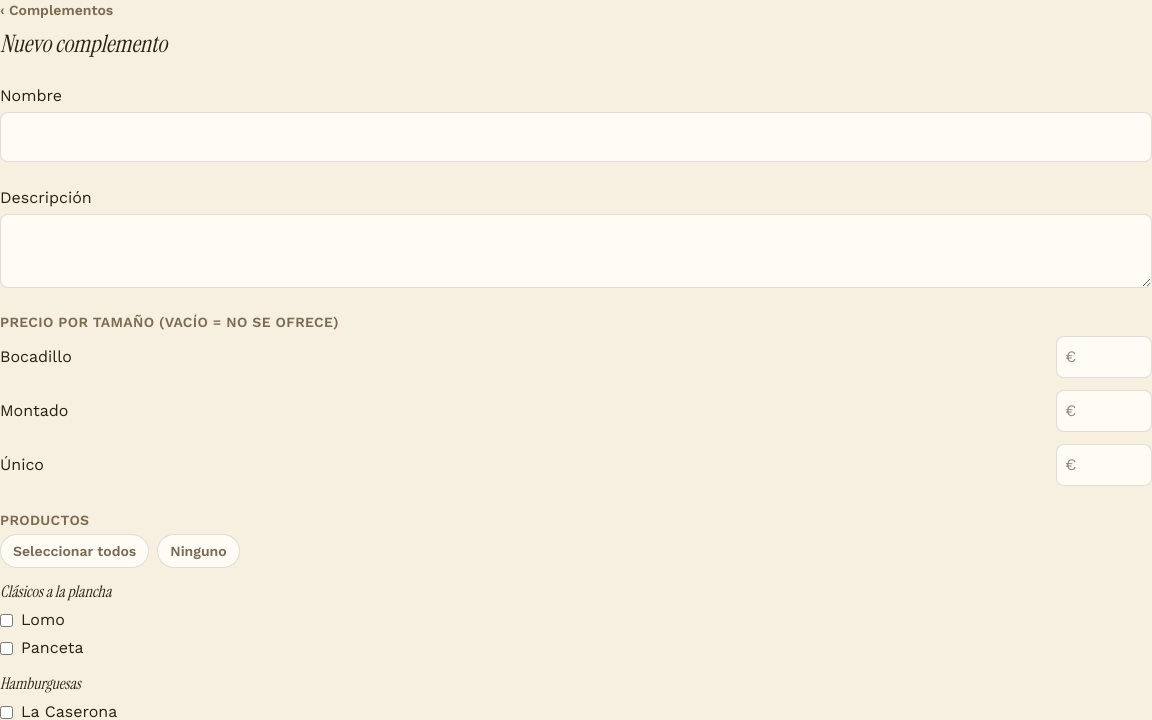
FormularioComplemento › no deja guardar sin precio en ningún tamaño
Type "Queso" into the field labelled "Nombre" at (576, 137), box [0,112,1151,162]
(page scrolled)
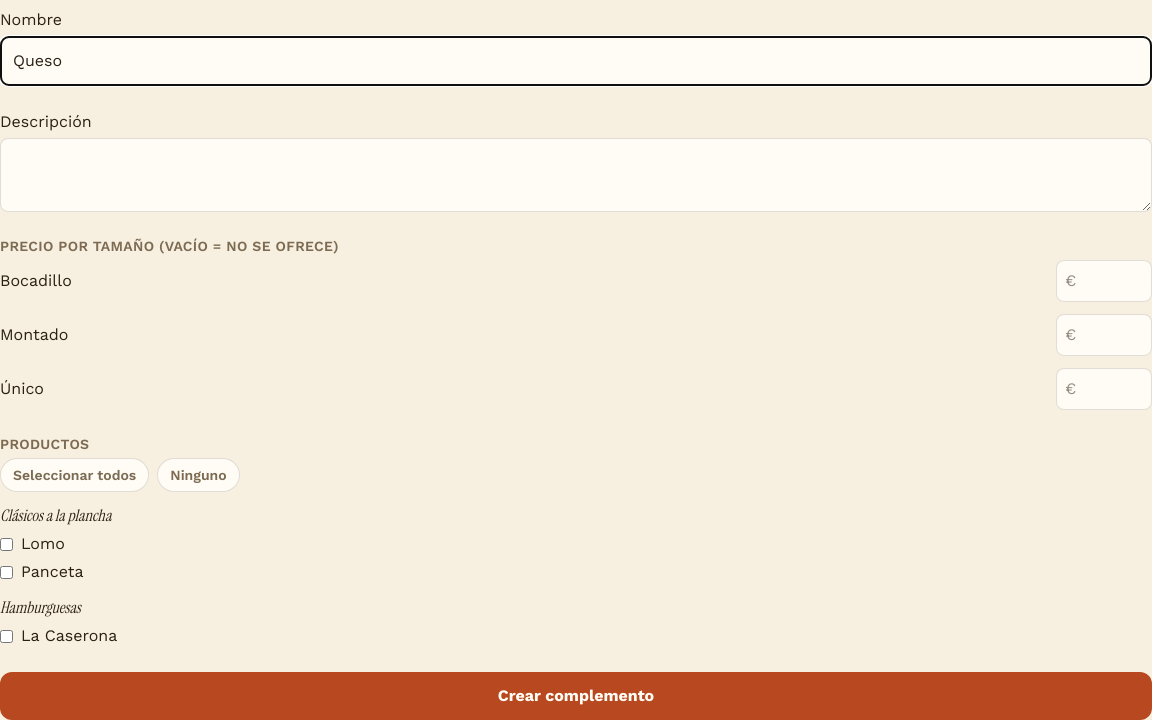
Click the button "Crear complemento" at (576, 696), box [0,672,1151,719]
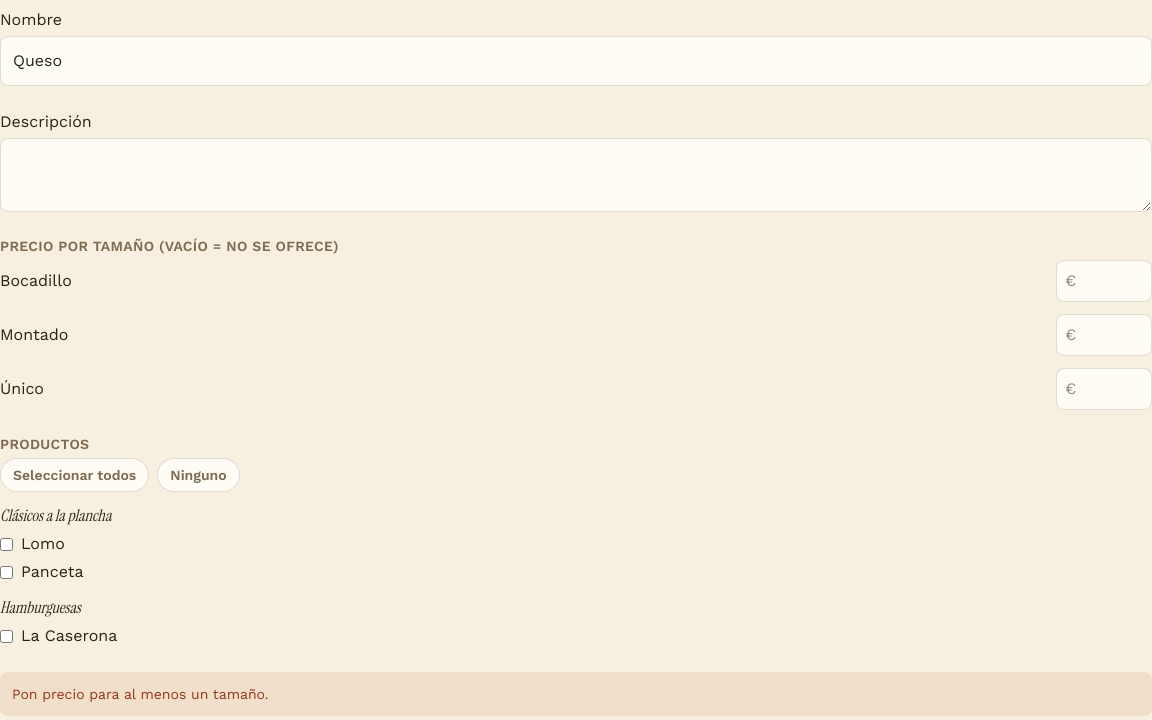
Expected: the text "Pon precio para al menos un tamaño." is shown, [0,672,1151,716]
